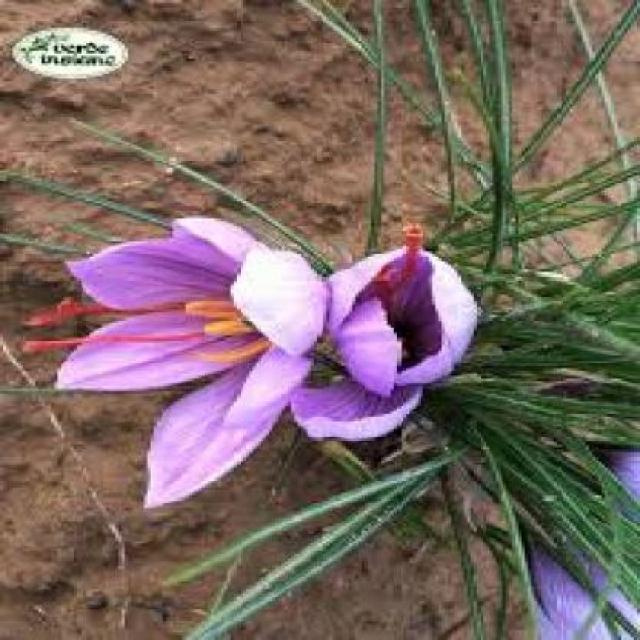Flower: (50, 213, 327, 512), (309, 241, 486, 393)
stigma: (19, 330, 203, 358), (26, 301, 186, 333), (390, 221, 425, 292)
